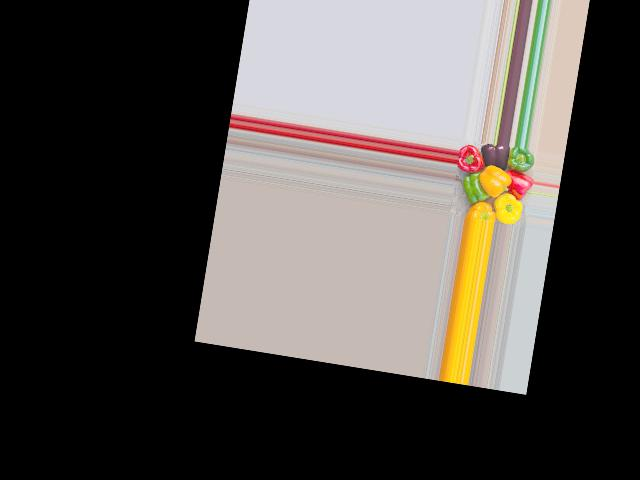bell_pepper: (458, 191, 498, 222)
